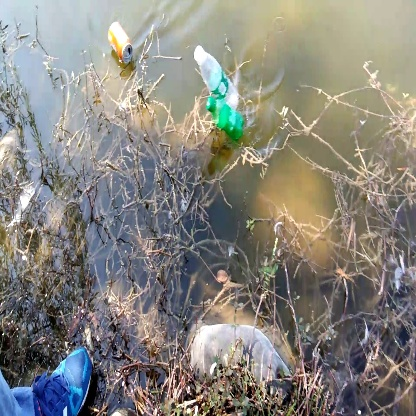bottle: (105, 25, 135, 65)
